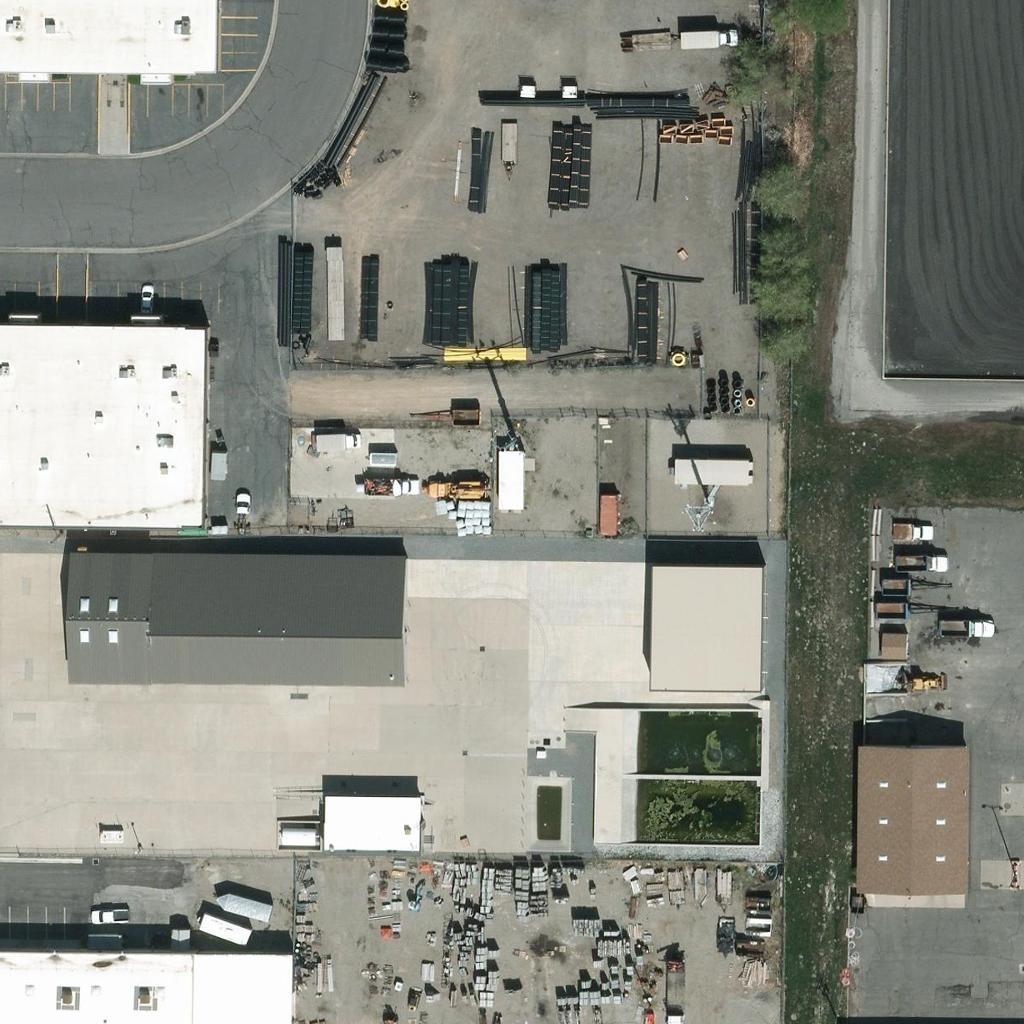car: (127, 283, 161, 317), (224, 492, 258, 526), (898, 515, 932, 549), (92, 898, 126, 932)
